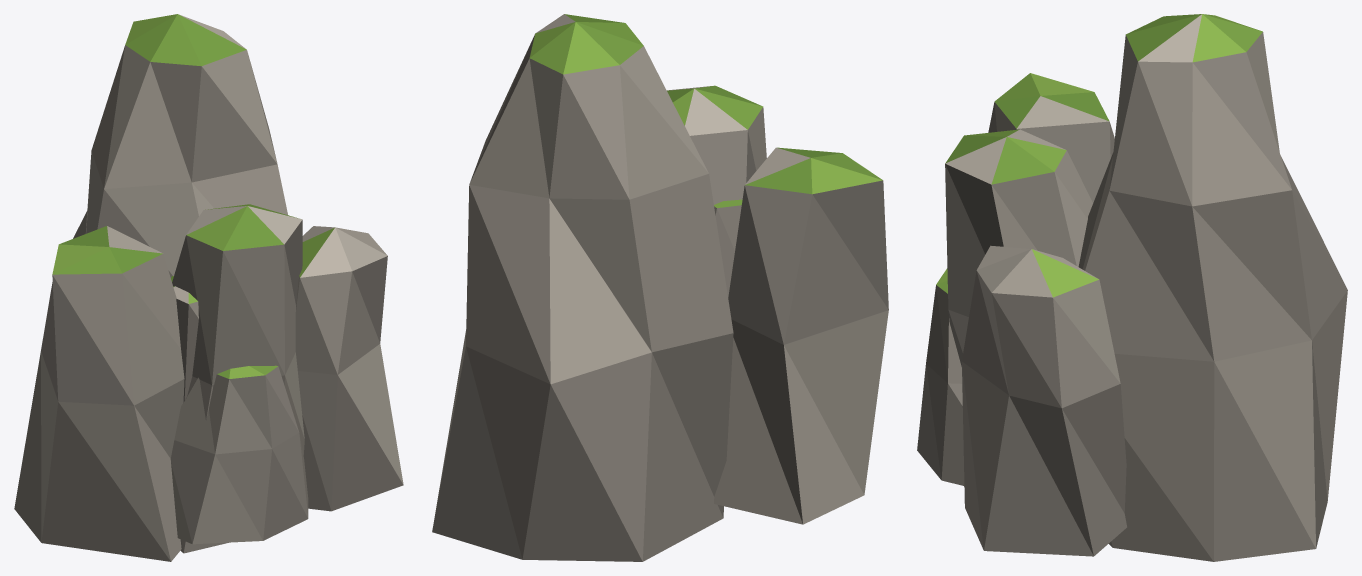
The model's file is Rock_Big.obj.
The picture shows the model from 3 angles, left to right: view 1: azimuth 30°, elevation 25°; view 2: azimuth 150°, elevation 25°; view 3: azimuth 270°, elevation 25°; orthographic projection. The views are drawn at different scales.
Visible parts, largest first — view 1: Rock_Big; view 2: Rock_Big; view 3: Rock_Big.
Boxes of the visible parts, x1,y1,x2,y2 form: Rock_Big: [14, 14, 403, 561]; Rock_Big: [432, 14, 888, 561]; Rock_Big: [917, 14, 1347, 561].
Bounding box in the file's own units: 2.08 × 2.61 × 2.07.
Materials: 1 (1 with a texture image).
